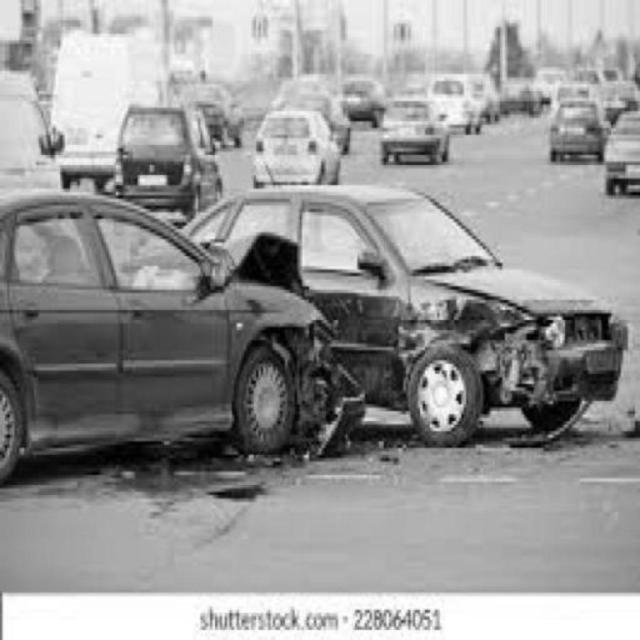accident: (4, 175, 621, 472)
vehicle: (117, 101, 220, 209), (257, 112, 343, 183)
